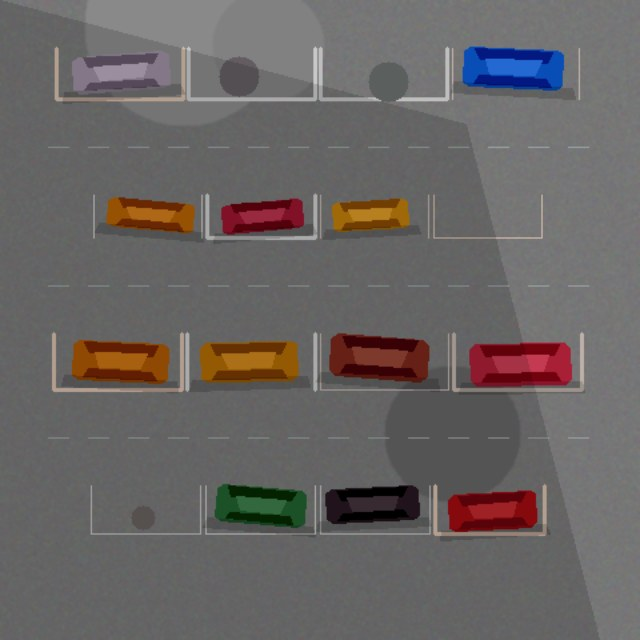space-empty: (188, 48, 315, 99), (320, 48, 447, 99), (91, 485, 200, 533), (433, 195, 541, 237)
space-occupied: (53, 333, 181, 389), (187, 333, 315, 389), (320, 333, 448, 389), (453, 333, 581, 389), (56, 48, 183, 99), (452, 48, 579, 99), (205, 485, 315, 533), (320, 485, 429, 533), (435, 485, 544, 533), (93, 195, 201, 237), (207, 195, 315, 237), (320, 195, 428, 237)
